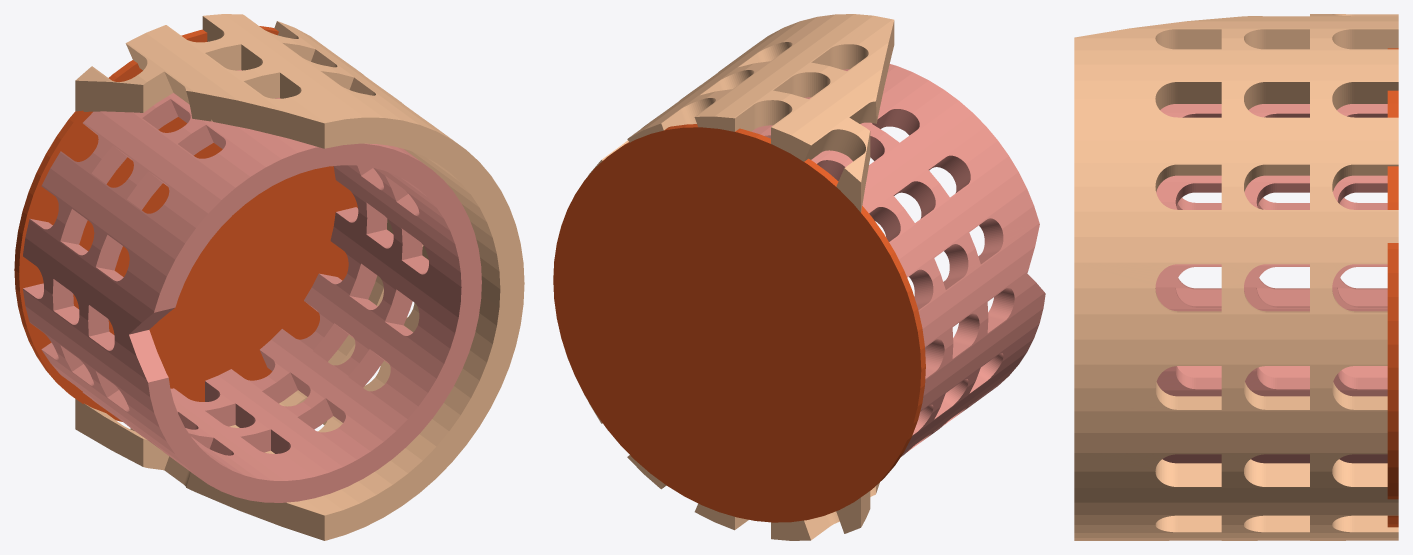
Rendered from tinker.obj.
The picture shows the model from 3 angles, left to right: view 1: azimuth 30°, elevation 25°; view 2: azimuth 150°, elevation 25°; view 3: azimuth 270°, elevation 25°; orthographic projection. The views are drawn at different scales.
Parts seen in each view (by area): view 1: group_0_15308428, group_0_16500122, group_0_14900002; view 2: group_0_14900002, group_0_15308428, group_0_16500122; view 3: group_0_16500122, group_0_15308428, group_0_14900002.
Boxes of the visible parts, x1=… form: group_0_15308428: x1=23, y1=69, x2=481, y2=502; group_0_16500122: x1=75, y1=14, x2=524, y2=540; group_0_14900002: x1=14, y1=26, x2=357, y2=421; group_0_14900002: x1=553, y1=124, x2=925, y2=522; group_0_15308428: x1=751, y1=64, x2=1045, y2=456; group_0_16500122: x1=587, y1=14, x2=894, y2=540; group_0_16500122: x1=1074, y1=14, x2=1398, y2=540; group_0_15308428: x1=1155, y1=104, x2=1387, y2=463; group_0_14900002: x1=1387, y1=48, x2=1398, y2=527.
Bounding box in the file's own units: 91 × 97.75 × 60.
